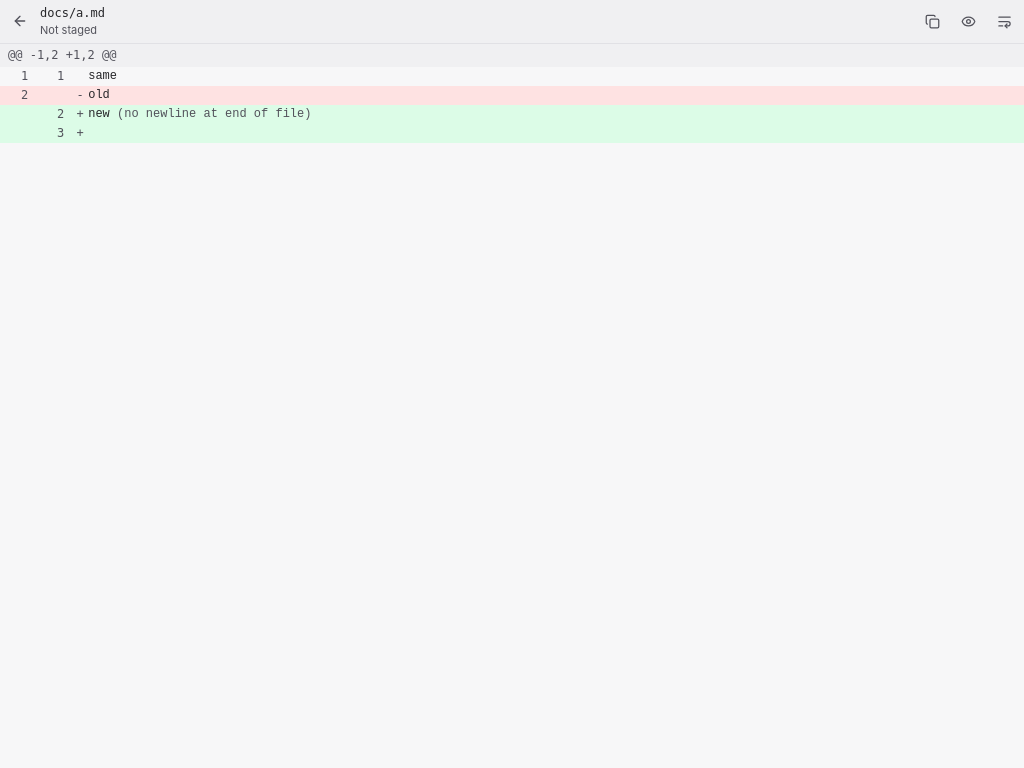
DiffViewer: Markdown preview › says when the file cannot be read: {"status":404,"code":""}
Check: the element with test id "diff" is shown, box [0, 44, 1023, 143]
Click the button named "Preview": (968, 21) [952, 5, 984, 37]
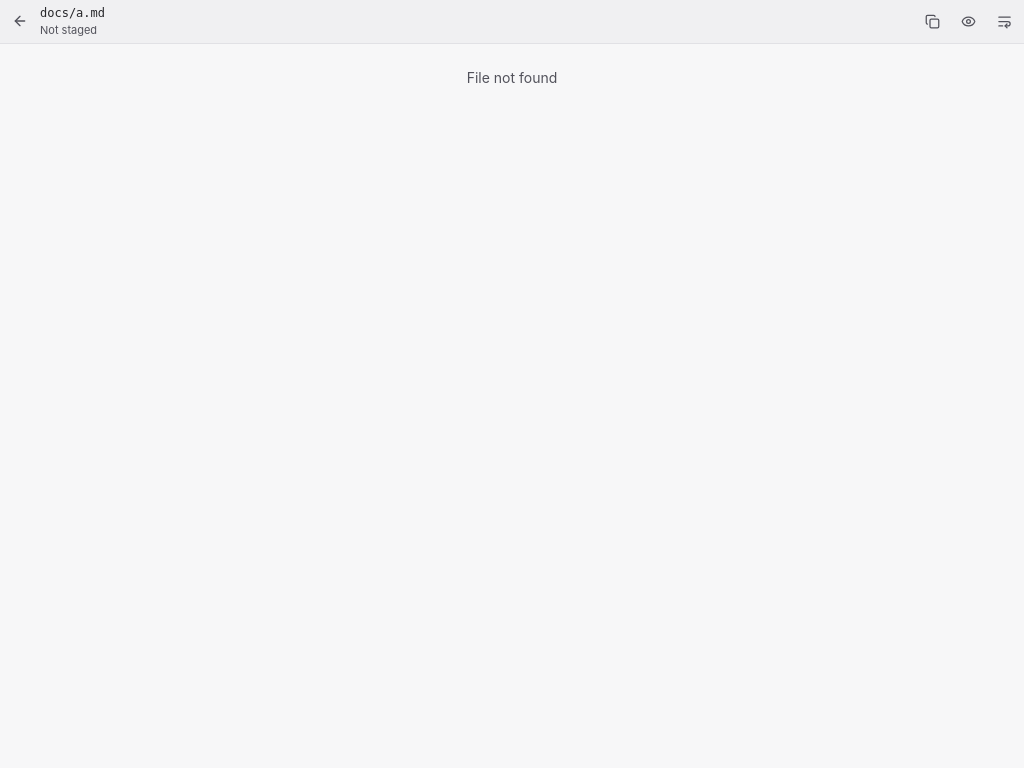
Check: the text "File not found" is shown, box [467, 68, 557, 86]
